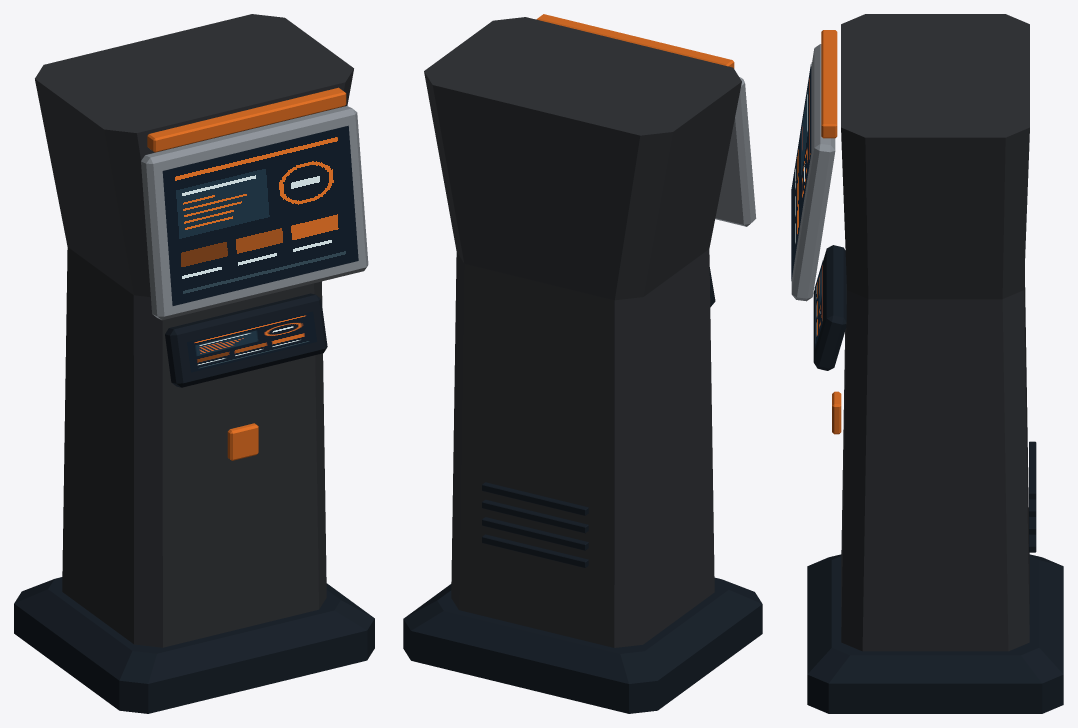
File: terminal-pedestal-compact-falkenfeld-kessler.glb
3 renders of one model, left to right at view 1: azimuth 30°, elevation 25°; view 2: azimuth 150°, elevation 25°; view 3: azimuth 270°, elevation 25°, orthographic.
Visible parts, largest first — view 1: Housing, Rubber, Display, Trim, Identity; view 2: Housing, Rubber, Trim, Identity; view 3: Housing, Rubber, Trim, Display, Identity.
Part boxes in pixels (x1,y1,x2,y2): Housing: [35, 14, 353, 647]; Rubber: [14, 293, 374, 713]; Display: [162, 125, 358, 372]; Trim: [141, 106, 368, 320]; Identity: [147, 87, 346, 460]; Housing: [424, 17, 741, 647]; Rubber: [403, 267, 762, 713]; Trim: [715, 77, 756, 226]; Identity: [536, 14, 734, 68]; Housing: [841, 14, 1029, 651]; Rubber: [807, 245, 1063, 713]; Trim: [791, 44, 835, 301]; Display: [791, 62, 822, 349]; Identity: [821, 30, 841, 434].
Bounding box in the file's own units: 0.392 × 0.832 × 0.357.
5 materials, 1 textured.
